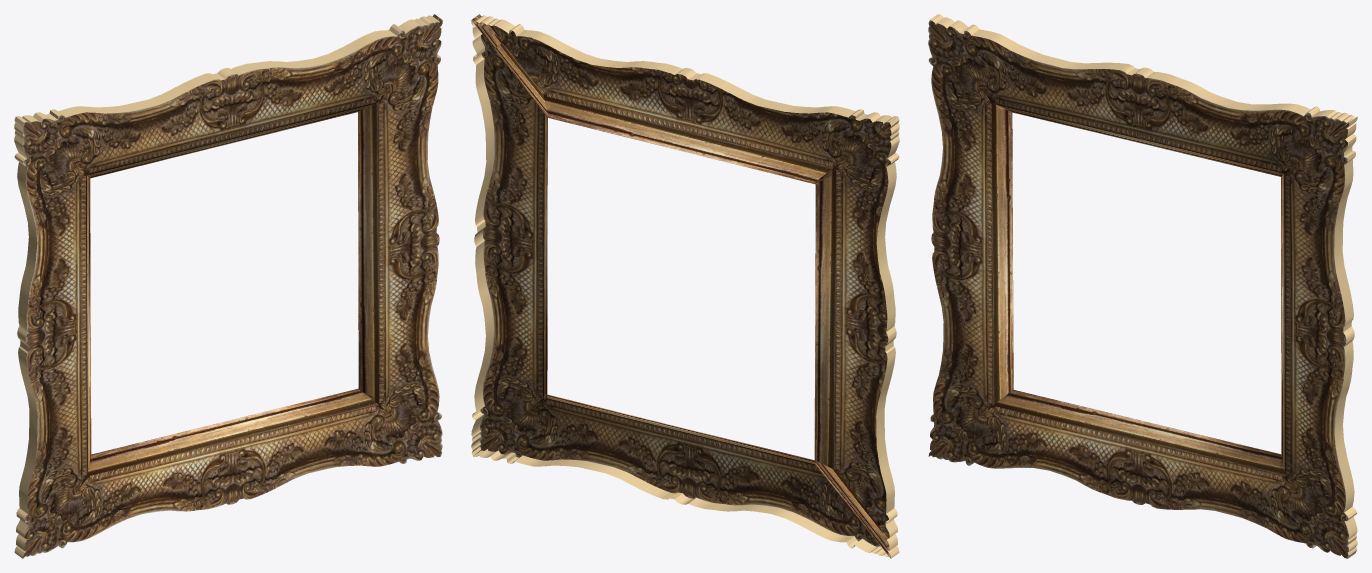
File: frame.glb
3 renders of one model, left to right at view 1: azimuth 30°, elevation 25°; view 2: azimuth 150°, elevation 25°; view 3: azimuth 330°, elevation 25°, orthographic.
Parts seen in each view (by area): view 1: kehys; view 2: kehys; view 3: kehys.
Boxes of the visible parts, x1,y1,x2,y2 form: kehys: [14, 14, 442, 558]; kehys: [471, 14, 899, 558]; kehys: [928, 14, 1357, 558].
Size of the model in its own units: 7.34 by 7.28 by 0.2539.
1 material, 1 textured.
